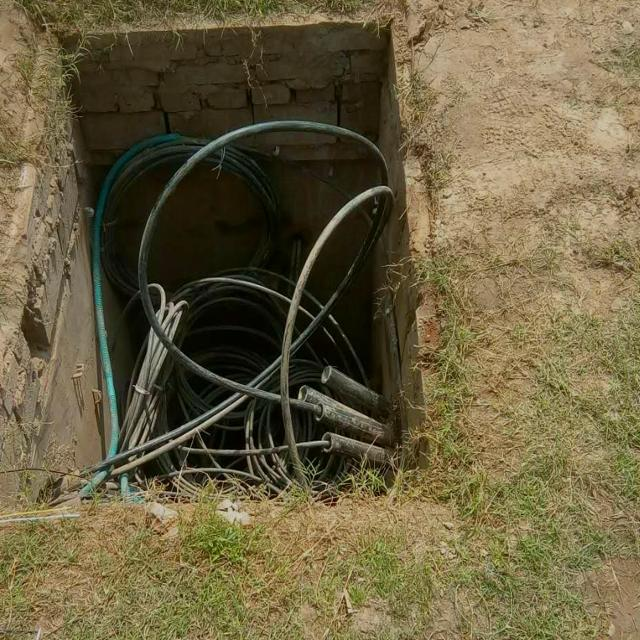lose: (0, 1, 446, 511)
